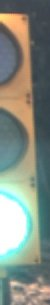Green: (2, 10, 45, 276)
